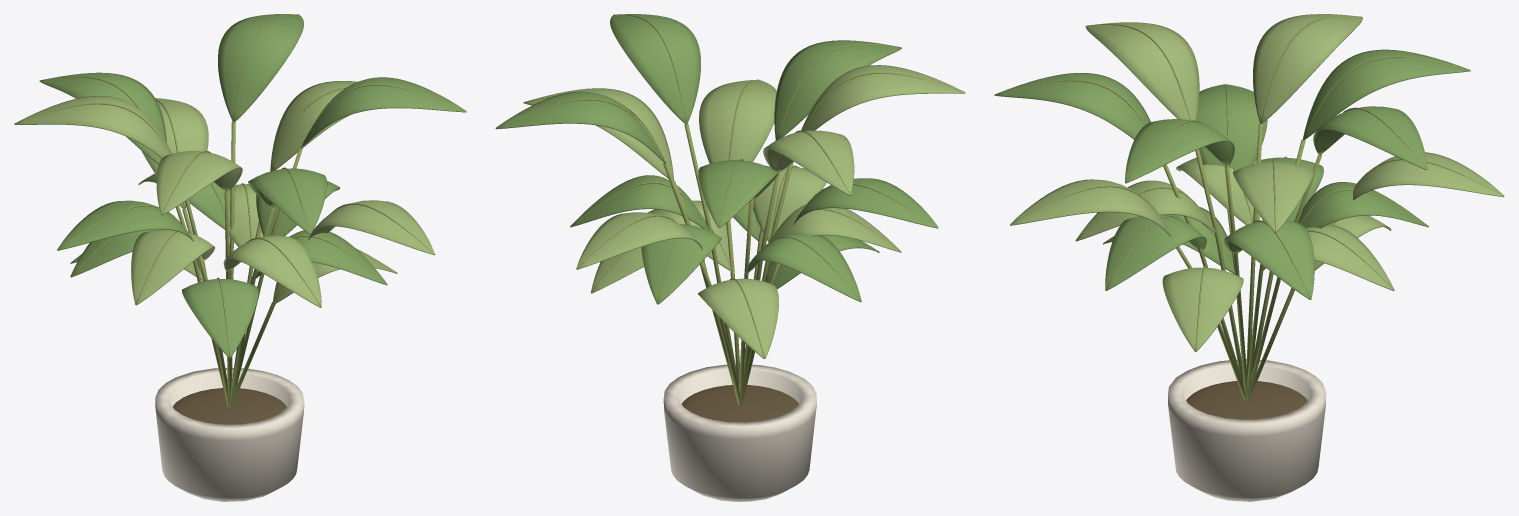
Rendered from bedroom-planters.glb.
3 renders of one model, left to right at view 1: azimuth 30°, elevation 25°; view 2: azimuth 150°, elevation 25°; view 3: azimuth 270°, elevation 25°, orthographic. The views are drawn at different scales.
Parts seen in each view (by area): view 1: part_00050, part_00006, part_00018, part_00020, part_00038, part_00016, part_00024, part_00026, part_00034, part_00030, part_00022, part_00051 (+14 smaller); view 2: part_00050, part_00038, part_00034, part_00030, part_00026, part_00008, part_00006, part_00018, part_00012, part_00014, part_00010, part_00004 (+14 smaller); view 3: part_00050, part_00018, part_00026, part_00014, part_00030, part_00032, part_00036, part_00006, part_00038, part_00028, part_00022, part_00034 (+17 smaller).
Part boxes in pixels (x1=…): part_00050: x1=155, y1=368, x2=304, y2=501; part_00006: x1=218, y1=14, x2=303, y2=122; part_00018: x1=14, y1=96, x2=172, y2=158; part_00020: x1=182, y1=279, x2=258, y2=357; part_00038: x1=300, y1=77, x2=465, y2=148; part_00016: x1=131, y1=229, x2=214, y2=304; part_00024: x1=223, y1=235, x2=321, y2=307; part_00026: x1=156, y1=151, x2=242, y2=214; part_00034: x1=308, y1=200, x2=434, y2=254; part_00030: x1=248, y1=168, x2=327, y2=233; part_00022: x1=57, y1=200, x2=200, y2=256; part_00051: x1=173, y1=388, x2=286, y2=424; part_00050: x1=663, y1=364, x2=816, y2=501; part_00038: x1=610, y1=14, x2=700, y2=124; part_00034: x1=699, y1=80, x2=776, y2=163; part_00030: x1=774, y1=40, x2=901, y2=140; part_00026: x1=801, y1=65, x2=965, y2=130; part_00008: x1=698, y1=278, x2=778, y2=358; part_00006: x1=496, y1=91, x2=665, y2=163; part_00018: x1=763, y1=130, x2=854, y2=195; part_00012: x1=745, y1=233, x2=861, y2=302; part_00014: x1=698, y1=160, x2=778, y2=227; part_00010: x1=576, y1=212, x2=702, y2=269; part_00004: x1=641, y1=224, x2=721, y2=303; part_00050: x1=1168, y1=359, x2=1326, y2=501; part_00018: x1=1253, y1=14, x2=1362, y2=123; part_00026: x1=1085, y1=22, x2=1199, y2=120; part_00014: x1=1303, y1=49, x2=1470, y2=140; part_00030: x1=994, y1=73, x2=1150, y2=139; part_00032: x1=1162, y1=267, x2=1243, y2=351; part_00036: x1=1224, y1=220, x2=1314, y2=299; part_00006: x1=1313, y1=106, x2=1427, y2=169; part_00038: x1=1125, y1=119, x2=1234, y2=183; part_00028: x1=1105, y1=215, x2=1206, y2=290; part_00022: x1=1196, y1=84, x2=1267, y2=169; part_00034: x1=1010, y1=179, x2=1170, y2=236.
Size of the model in its own units: 0.3053 by 0.3001 by 0.3341.
